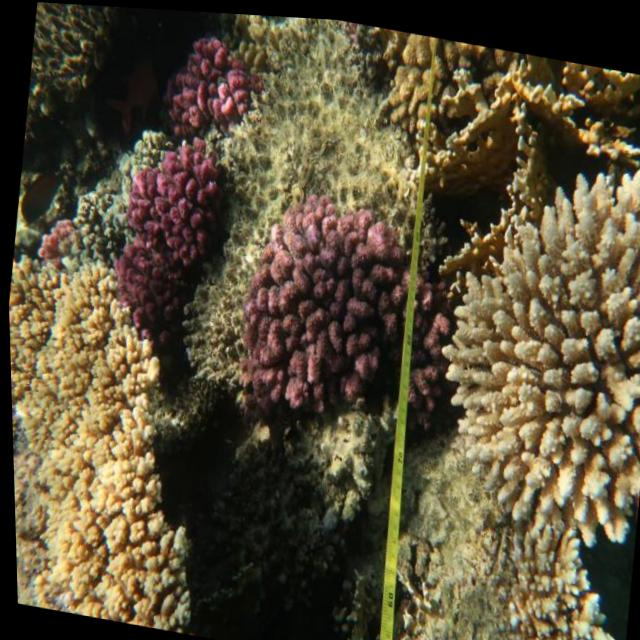Bleached Coral: (419, 130, 640, 551), (6, 251, 223, 633)
Healthy Coral: (227, 172, 457, 423), (98, 120, 242, 360), (480, 537, 631, 640), (157, 20, 260, 135)
